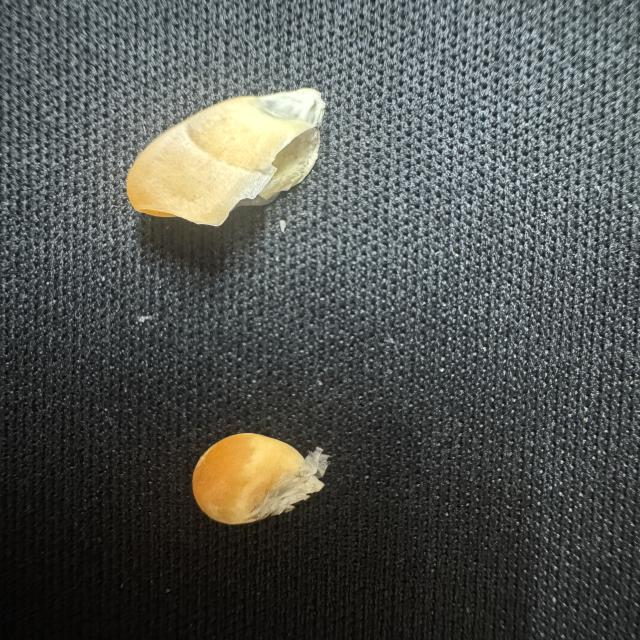Bad-Seed: (119, 84, 330, 230), (187, 428, 333, 530)
